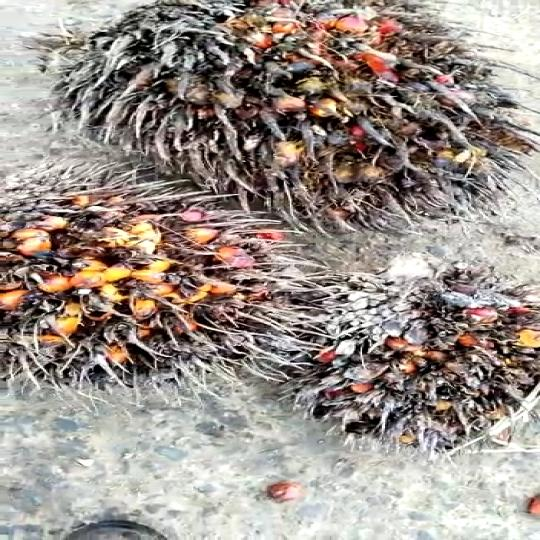terlalu masak: (44, 0, 508, 226), (269, 255, 540, 436)
